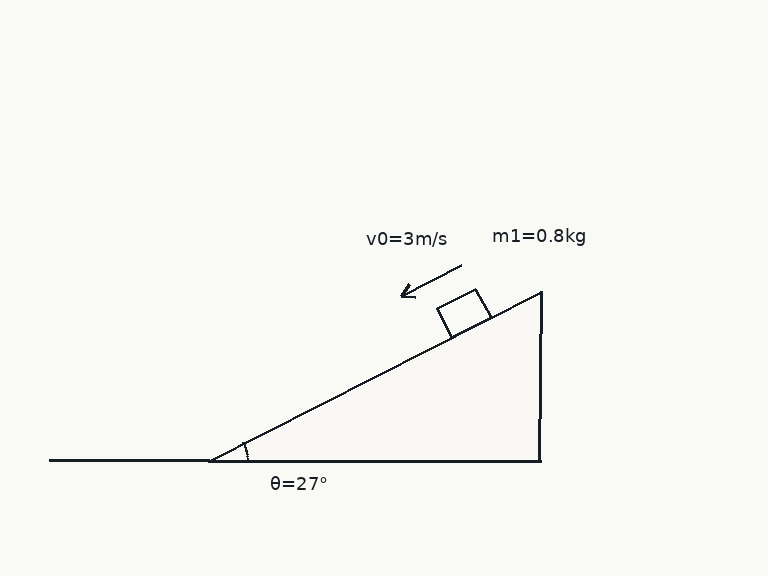block: (434, 286, 492, 339)
ramp: (206, 290, 541, 463)
